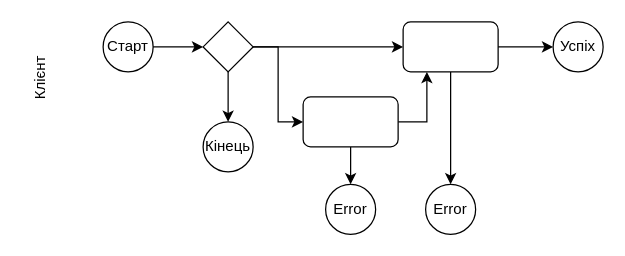
Some shapes in this 625 by 256 pixel diagram are drawn without their labels. Here are the shapes that lost their labels. From the top down, the box of each, then its label:
(402, 21, 498, 72): Вхід
(302, 96, 398, 147): Реєстрація
